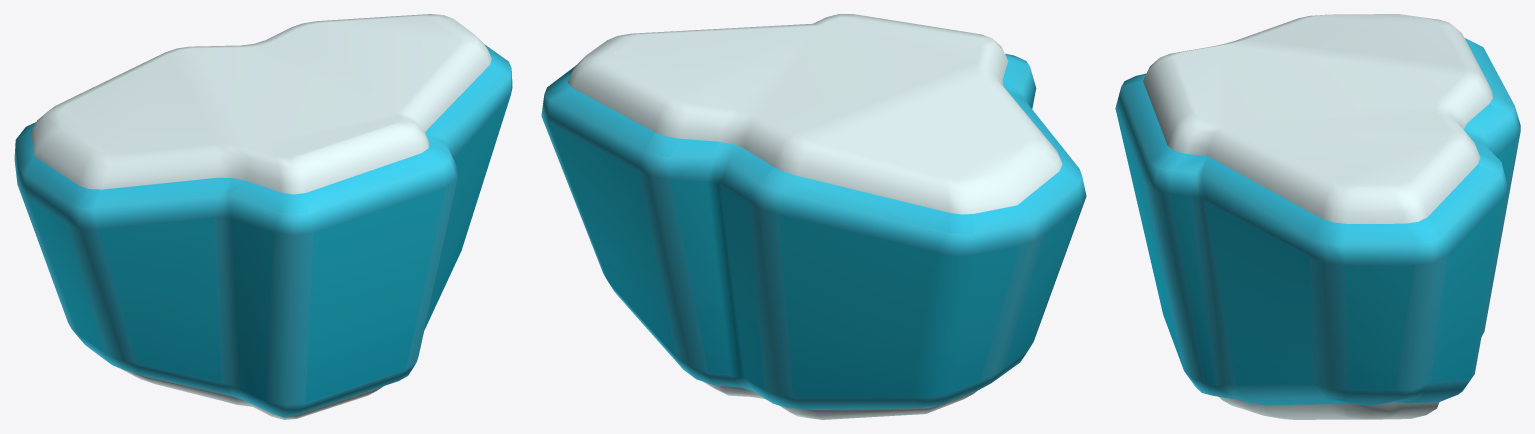
The model's file is ice_009.fbx.
3 renders of one model, left to right at view 1: azimuth 30°, elevation 25°; view 2: azimuth 150°, elevation 25°; view 3: azimuth 270°, elevation 25°, orthographic. The views are drawn at different scales.
Parts seen in each view (by area): view 1: ice_009; view 2: ice_009; view 3: ice_009.
Boxes of the visible parts, x1,y1,x2,y2 form: ice_009: (14,14,512,419); ice_009: (541,14,1086,419); ice_009: (1115,14,1520,419).
Bounding box in the file's own units: 337 × 245 × 198.
